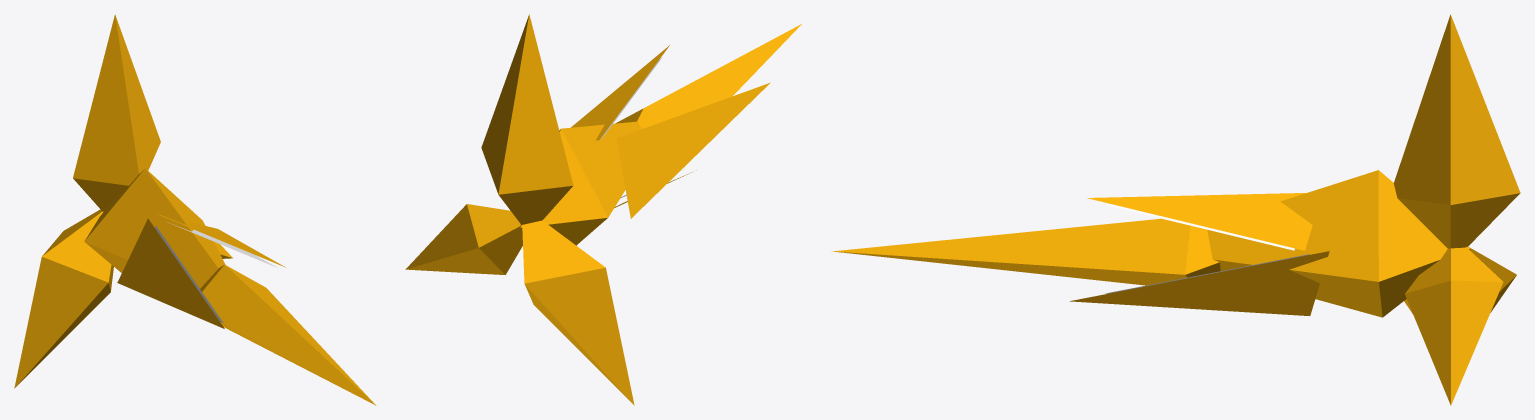
The model's file is MicroMuzzleFlash.glb.
3 renders of one model, left to right at view 1: azimuth 30°, elevation 25°; view 2: azimuth 150°, elevation 25°; view 3: azimuth 270°, elevation 25°, orthographic. The views are drawn at different scales.
Parts seen in each view (by area): view 1: Cube.001, Cube; view 2: Cube.001; view 3: Cube.001, Cube.
Boxes of the visible parts, x1,y1,x2,y2 form: Cube.001: (14,14,376,405); Cube: (155,222,278,323); Cube.001: (405,14,801,405); Cube.001: (832,14,1520,405); Cube: (1105,204,1309,293).
Size of the model in its own units: 0.1166 by 0.178 by 0.2681.
2 materials, 1 textured.
